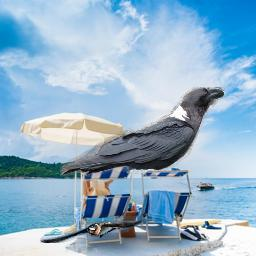Crow: (60, 87, 225, 177)
Swallow: (40, 216, 144, 243)
